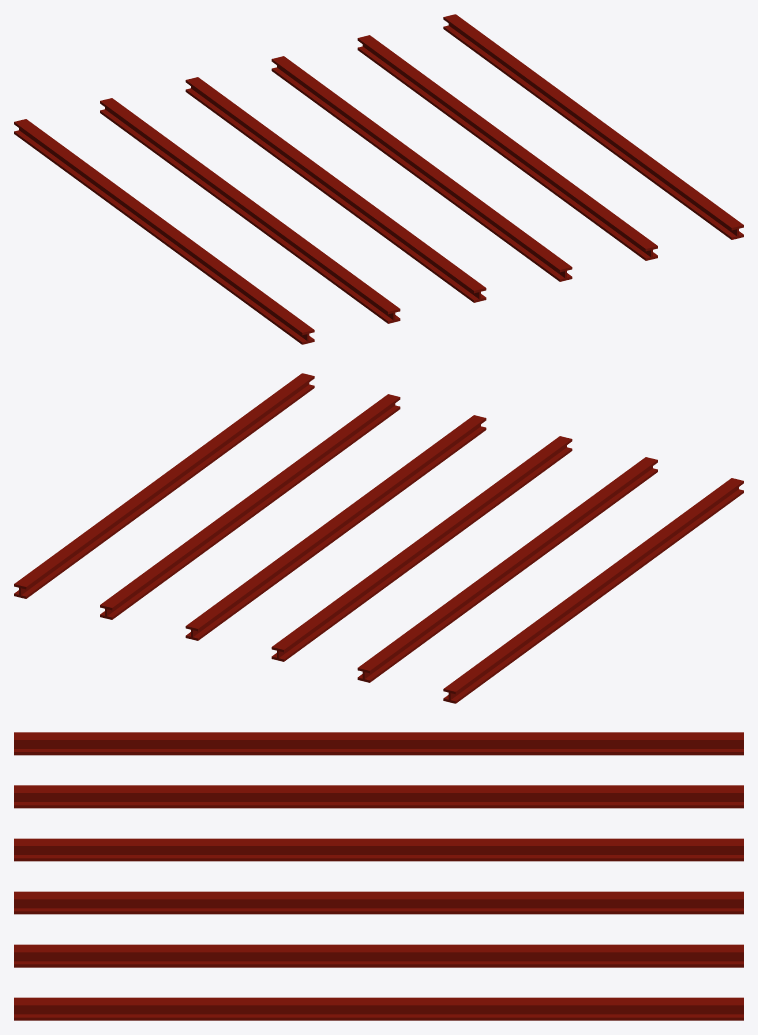
The model's file is I-beam_003.gltf.
3 views of the same model, one above another, from view 1: azimuth 30°, elevation 25°; view 2: azimuth 150°, elevation 25°; view 3: azimuth 270°, elevation 25° (orthographic). The views are drawn at different scales.
Parts seen in each view (by area): view 1: I-beam.003; view 2: I-beam.003; view 3: I-beam.003.
Boxes of the visible parts, <box> form: I-beam.003: <box>14,14,743,344</box>; I-beam.003: <box>14,373,743,703</box>; I-beam.003: <box>14,732,743,1020</box>.
Bounding box in the file's own units: 18.92 × 0.4907 × 21.38.
